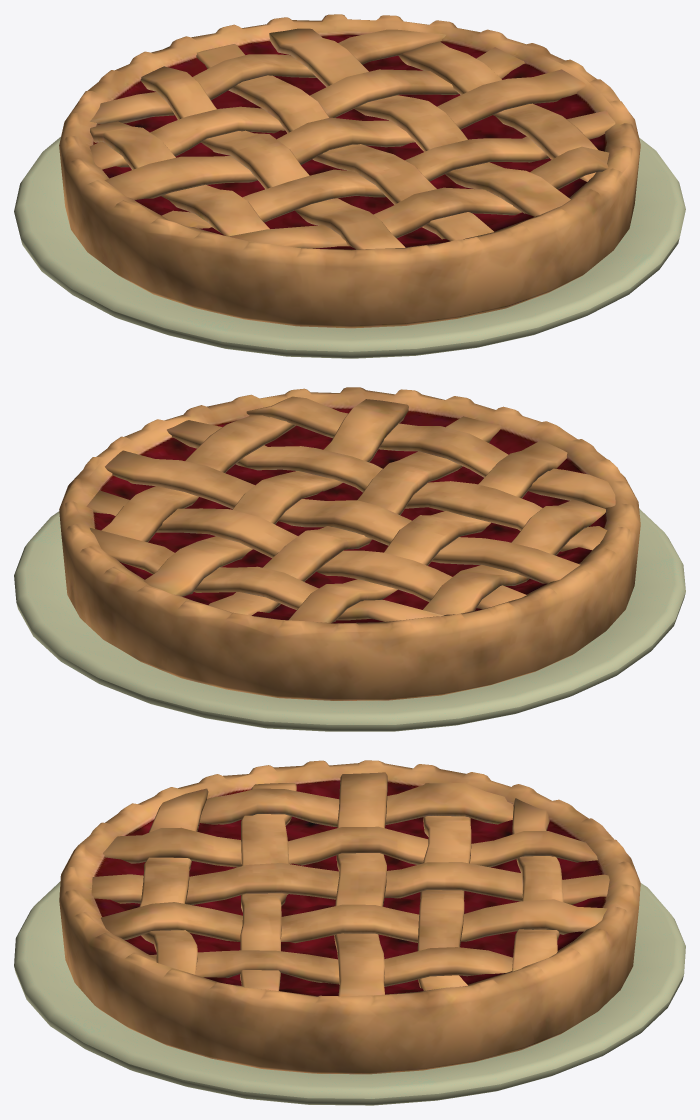
File: cherry_tart.glb
3 views of the same model, one above another, from view 1: azimuth 30°, elevation 25°; view 2: azimuth 150°, elevation 25°; view 3: azimuth 270°, elevation 25° (orthographic).
Parts seen in each view (by area): view 1: Pie_Top_Cross, Pie_Main, Pie_Plate; view 2: Pie_Top_Cross, Pie_Main, Pie_Plate; view 3: Pie_Top_Cross, Pie_Main, Pie_Plate.
Part boxes in pixels (x1=…): Pie_Top_Cross: x1=89, y1=28, x2=615, y2=249; Pie_Main: x1=59, y1=14, x2=640, y2=328; Pie_Plate: x1=14, y1=137, x2=685, y2=358; Pie_Top_Cross: x1=86, y1=396, x2=615, y2=622; Pie_Main: x1=59, y1=387, x2=640, y2=700; Pie_Plate: x1=14, y1=509, x2=685, y2=731; Pie_Top_Cross: x1=91, y1=772, x2=609, y2=996; Pie_Main: x1=59, y1=760, x2=640, y2=1074; Pie_Plate: x1=14, y1=881, x2=685, y2=1105.
Bounding box in the file's own units: 0.1999 × 0.0381 × 0.2.
2 materials, 2 textured.
